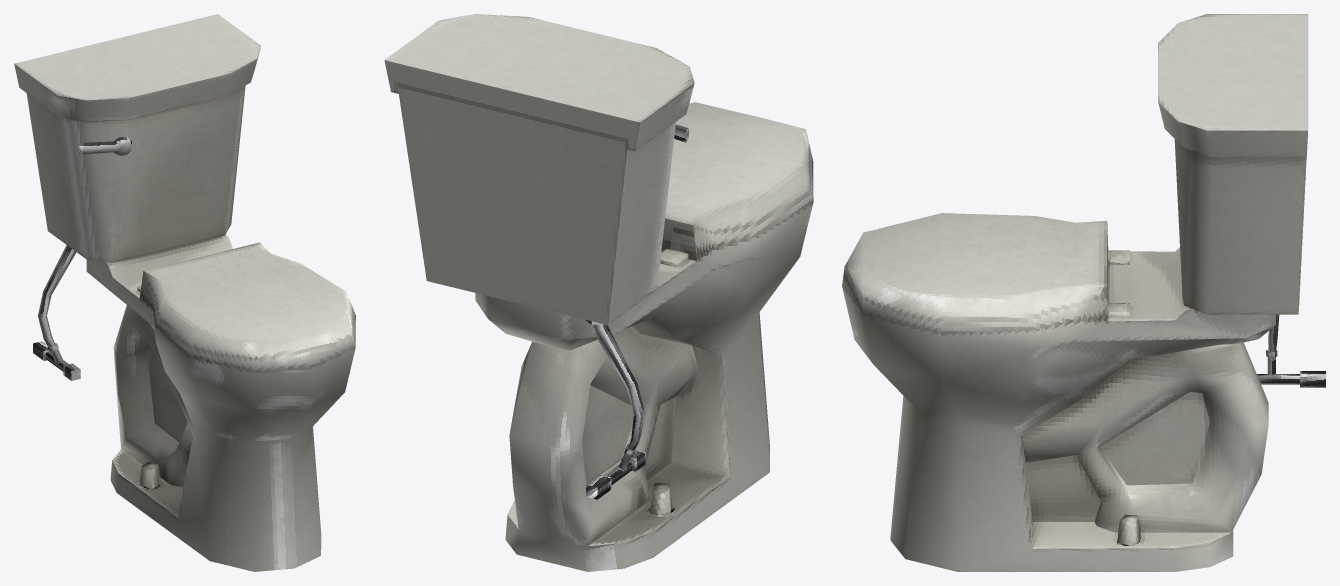
Rendered from toilet.glb.
3 views of the same model, side by side, from view 1: azimuth 30°, elevation 25°; view 2: azimuth 150°, elevation 25°; view 3: azimuth 270°, elevation 25° (orthographic). The views are drawn at different scales.
Parts seen in each view (by area): view 1: Toilet; view 2: Toilet; view 3: Toilet.
Boxes of the visible parts, x1=… form: Toilet: x1=14, y1=14, x2=355, y2=571; Toilet: x1=384, y1=14, x2=813, y2=571; Toilet: x1=842, y1=14, x2=1325, y2=571.
Bounding box in the file's own units: 0.3797 × 0.7108 × 0.6663.
1 material, 1 textured.
